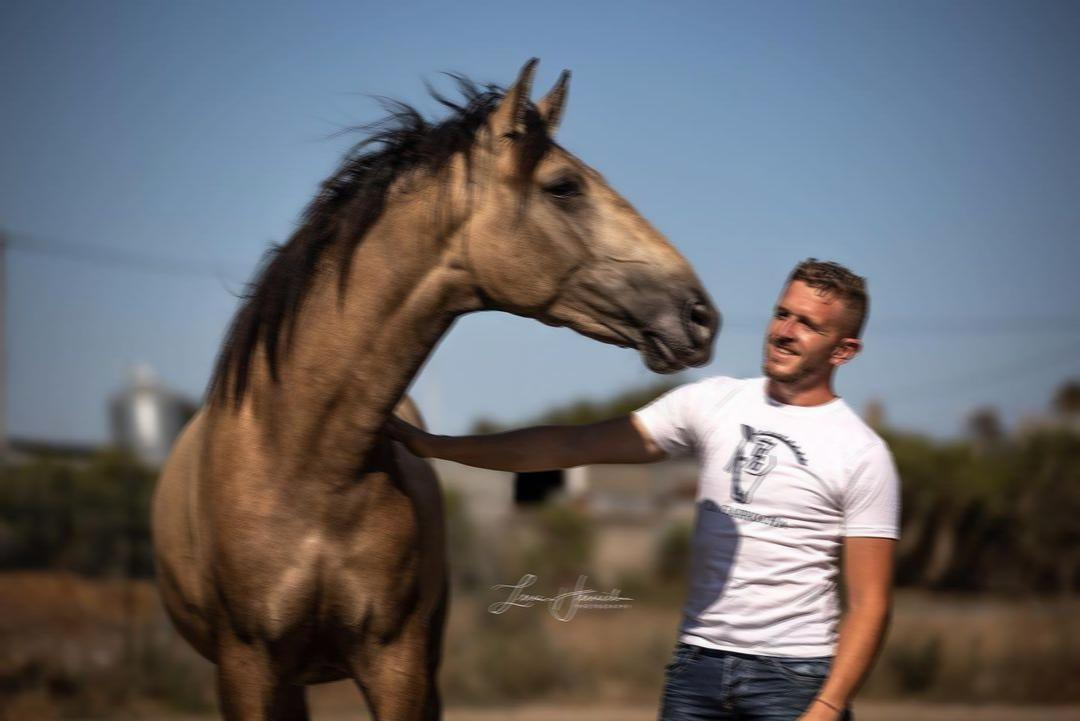horse: (148, 54, 721, 719)
